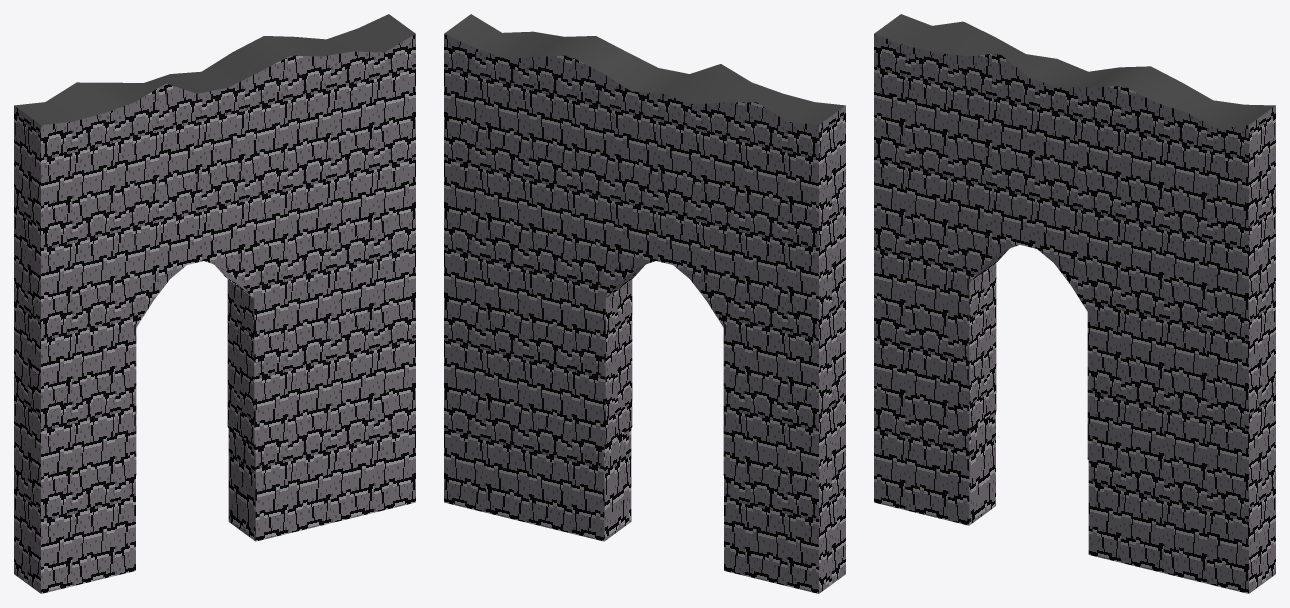
Rendered from BrokenRuinsArchway.fbx.
3 renders of one model, left to right at view 1: azimuth 30°, elevation 25°; view 2: azimuth 150°, elevation 25°; view 3: azimuth 330°, elevation 25°, orthographic.
Parts seen in each view (by area): view 1: BrokenRuinsWallArch; view 2: BrokenRuinsWallArch; view 3: BrokenRuinsWallArch.
Boxes of the visible parts, box(x1,y1,x2,y2) form: BrokenRuinsWallArch: box(14, 14, 415, 593); BrokenRuinsWallArch: box(444, 14, 845, 593); BrokenRuinsWallArch: box(874, 14, 1275, 593).
Size of the model in its own units: 4099 by 5016 by 510.
3 materials, 1 textured.
